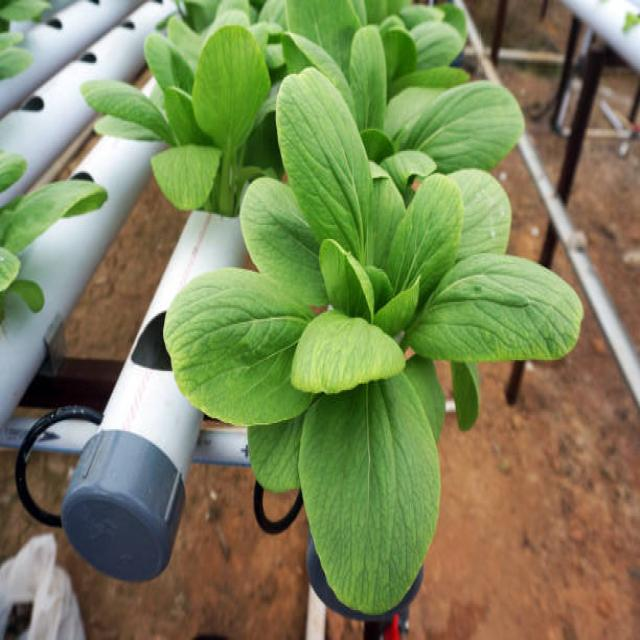pakcoy_sehat: (191, 73, 580, 596)
